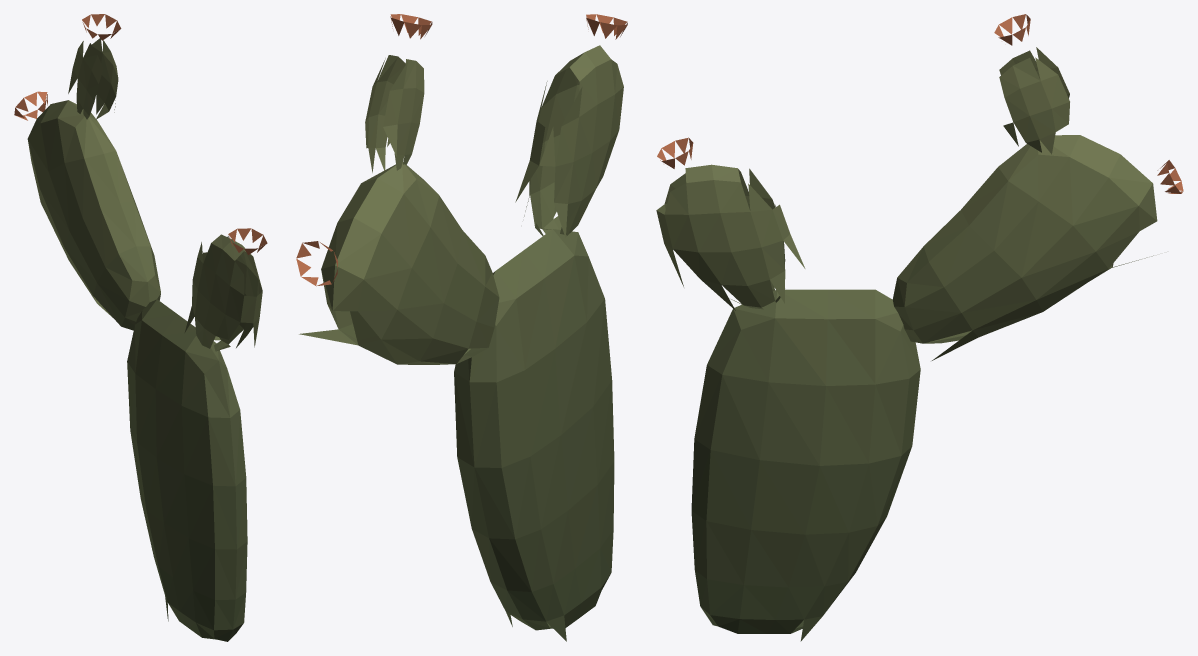
File: DressCactusPear.glb
3 views of the same model, side by side, from view 1: azimuth 30°, elevation 25°; view 2: azimuth 150°, elevation 25°; view 3: azimuth 270°, elevation 25° (orthographic). The views are drawn at different scales.
Parts seen in each view (by area): view 1: DressCactusPear; view 2: DressCactusPear; view 3: DressCactusPear.
Boxes of the visible parts, bbox=[...] form: DressCactusPear: bbox=[14, 14, 267, 641]; DressCactusPear: bbox=[296, 14, 627, 641]; DressCactusPear: bbox=[656, 14, 1183, 641].
Size of the model in its own units: 0.1369 by 1.13 by 0.8776.
